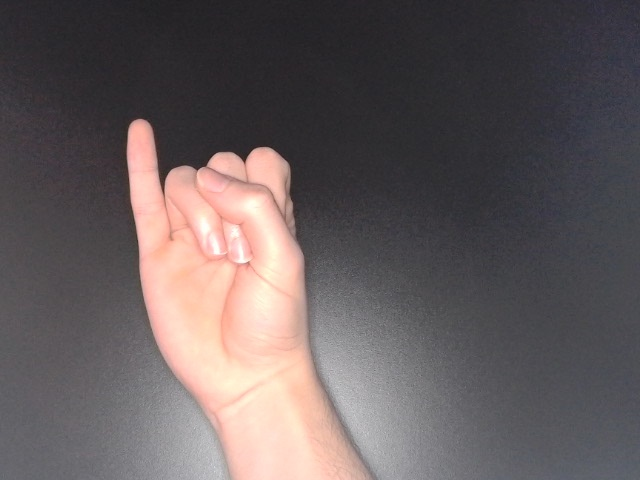i: (119, 114, 314, 422)
